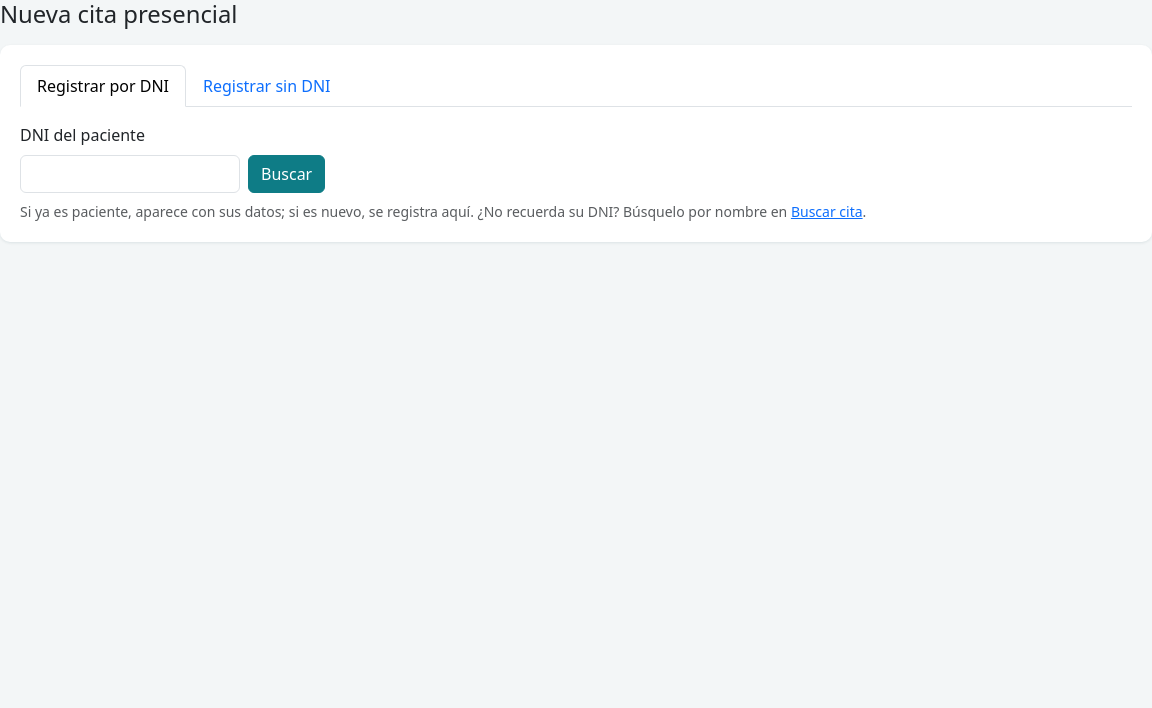
Test: Autocompletar con RENIEC (Nueva cita) › DNI nuevo: completa nombres y apellidos y avisa que se verifiquen
Type "45678912" into the field labelled "DNI del paciente" at (130, 174), box [20,155,240,193]
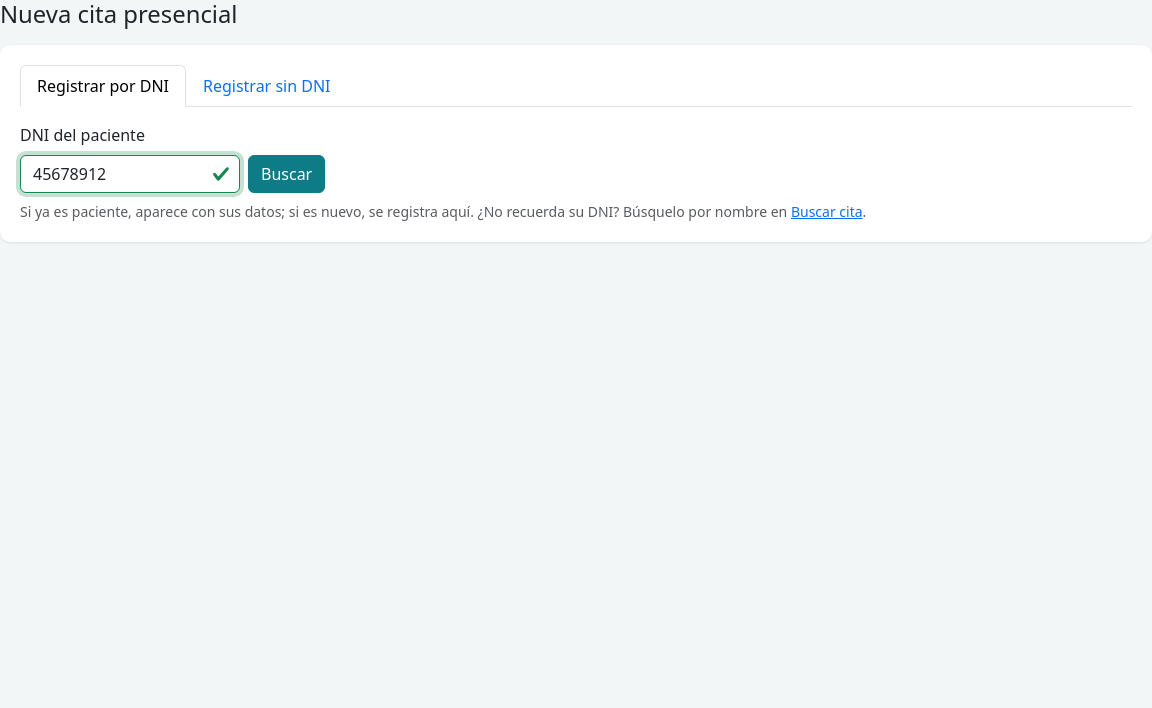
Click the button "Buscar" at (287, 174), box [248,155,325,193]
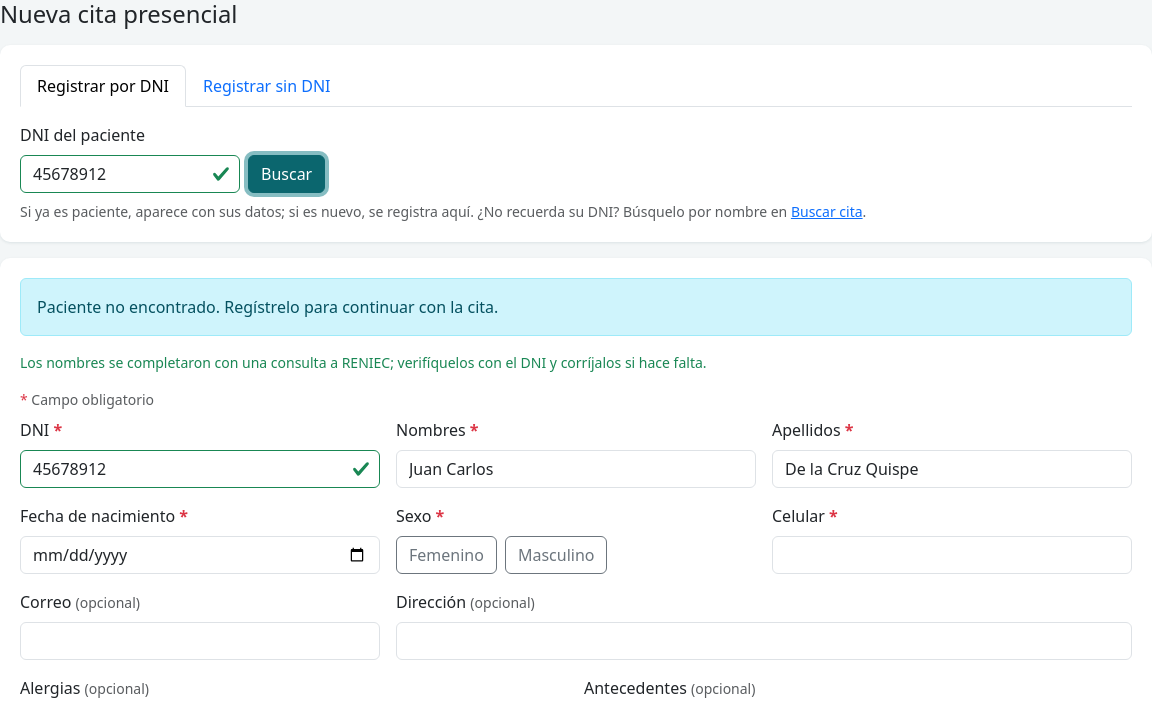
Expected: the field labelled "Nombres" holds "Juan Carlos", [396,450,756,488]
Expected: the field labelled "Apellidos" holds "De la Cruz Quispe", [772,450,1132,488]
Expected: the text "se completaron con una consulta a RENIEC" is shown, [20,353,707,372]
